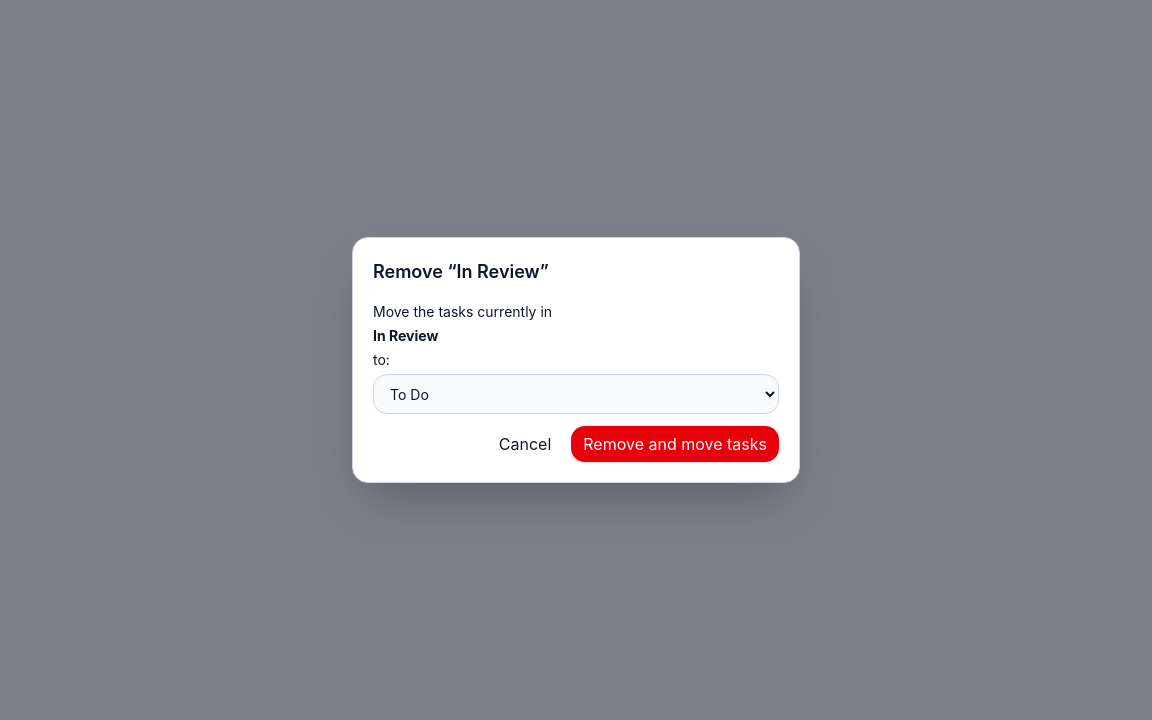
RemoveStatusDialog › cannot confirm without a replacement status
The width and height of the screenshot is (1152, 720).
Expected: the button "Remove and move tasks" is enabled, [571,426,779,462]
Select "Select a status…" in the dropdown named "Replacement status" at {"x": 576, "y": 394}, box [373,374,779,414]
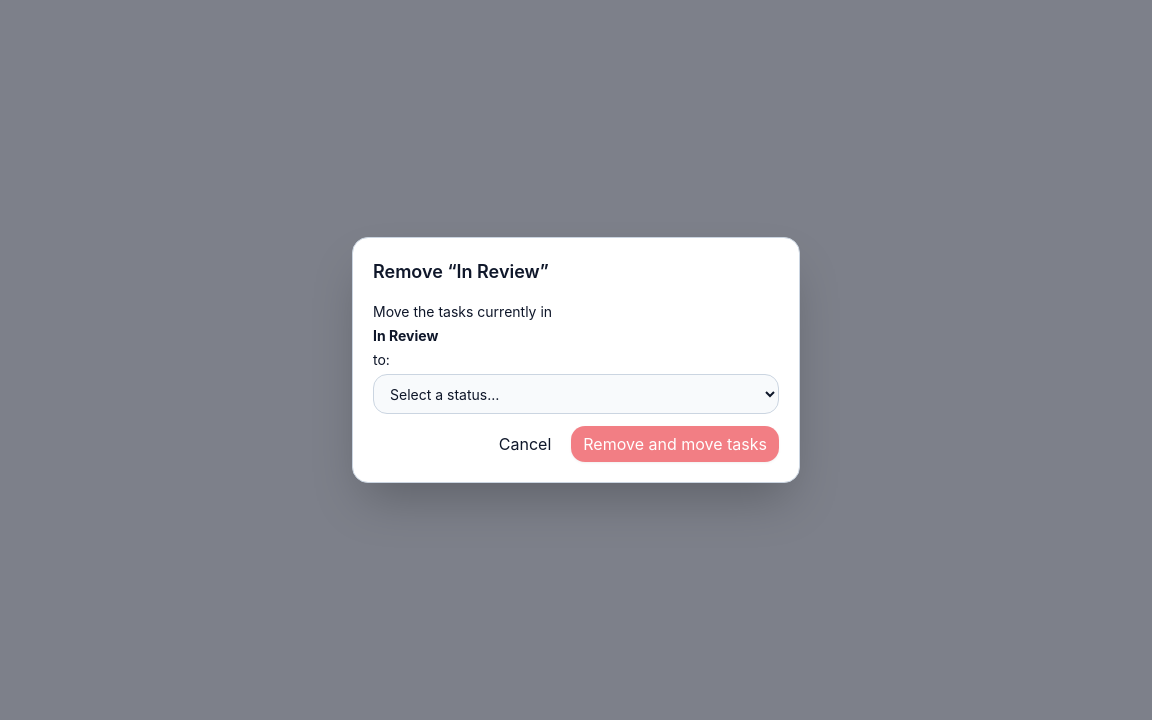
Expected: the button "Remove and move tasks" is disabled, [571,426,779,462]
